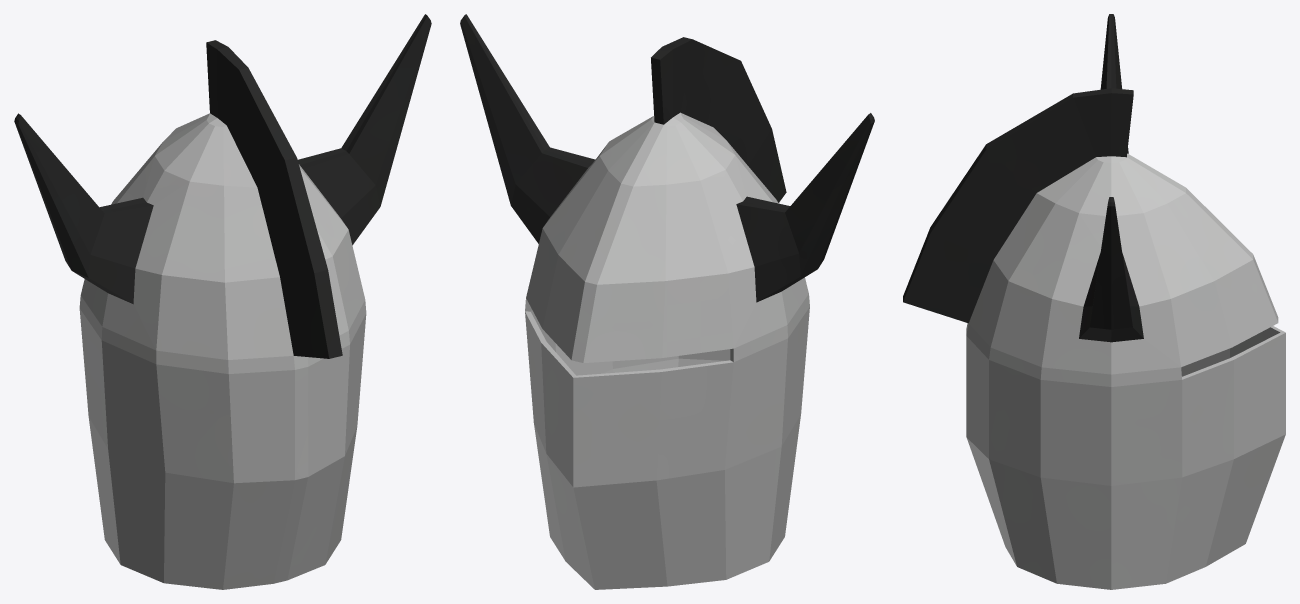
The model's file is Armor_Helmet.fbx.
3 views of the same model, side by side, from view 1: azimuth 30°, elevation 25°; view 2: azimuth 150°, elevation 25°; view 3: azimuth 270°, elevation 25° (orthographic). The views are drawn at different scales.
Parts seen in each view (by area): view 1: Armor_Helmet; view 2: Armor_Helmet; view 3: Armor_Helmet.
Part boxes in pixels (bbox=[...]): Armor_Helmet: bbox=[14, 14, 431, 589]; Armor_Helmet: bbox=[460, 14, 874, 589]; Armor_Helmet: bbox=[903, 14, 1285, 589].
Bounding box in the file's own units: 24.95 × 28.29 × 21.66.
